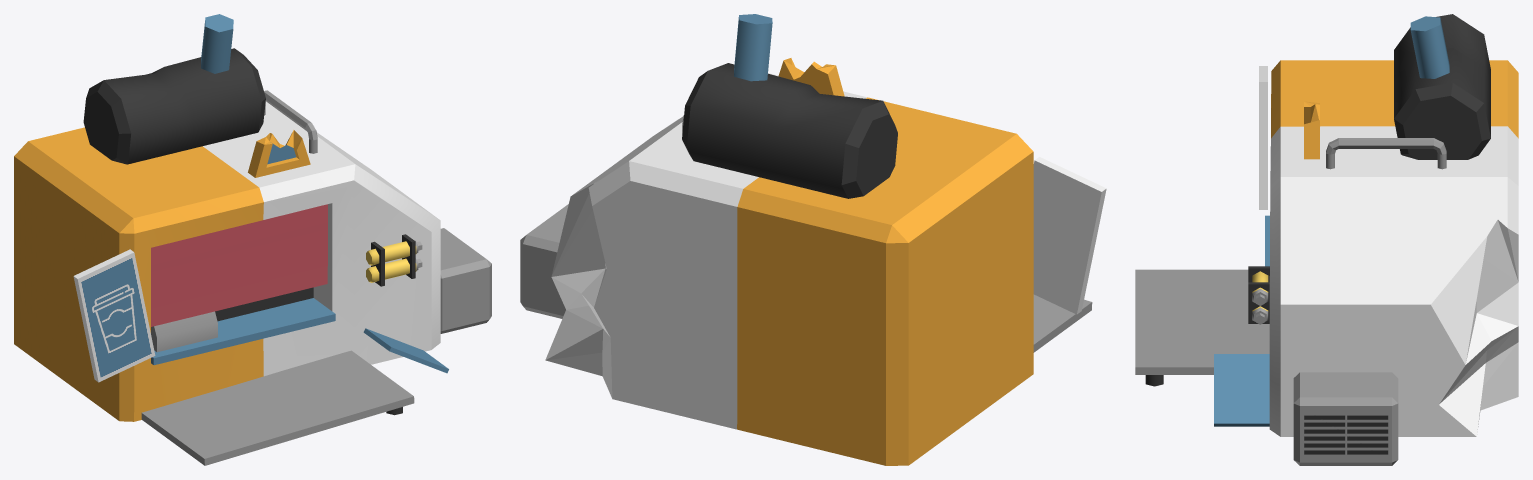
The model's file is M_cafeB.fbx.
The picture shows the model from 3 angles, left to right: view 1: azimuth 30°, elevation 25°; view 2: azimuth 150°, elevation 25°; view 3: azimuth 270°, elevation 25°; orthographic projection. The views are drawn at different scales.
Visible parts, largest first — view 1: Box015; view 2: Box015; view 3: Box015.
Part boxes in pixels (box(x1,y1,x2,y2)): Box015: box(14, 14, 491, 465); Box015: box(520, 14, 1106, 465); Box015: box(1135, 14, 1518, 465).
Bounding box in the file's own units: 15091 × 10404 × 10726.
